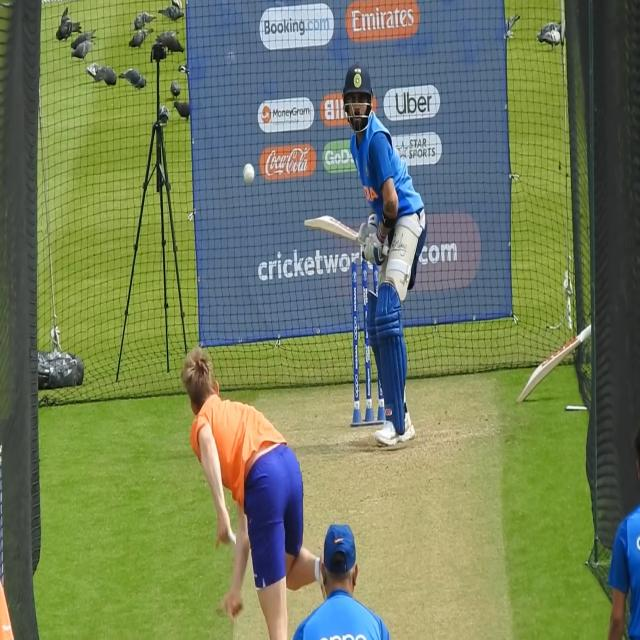ball: (242, 160, 255, 186)
stump: (350, 260, 385, 427)
